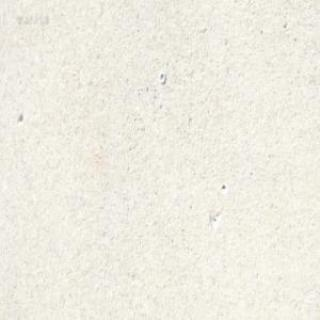Washertrack_idkeyframe: (158, 71, 165, 84)
